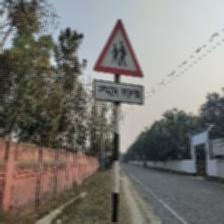College-in-front: (89, 6, 162, 105)
